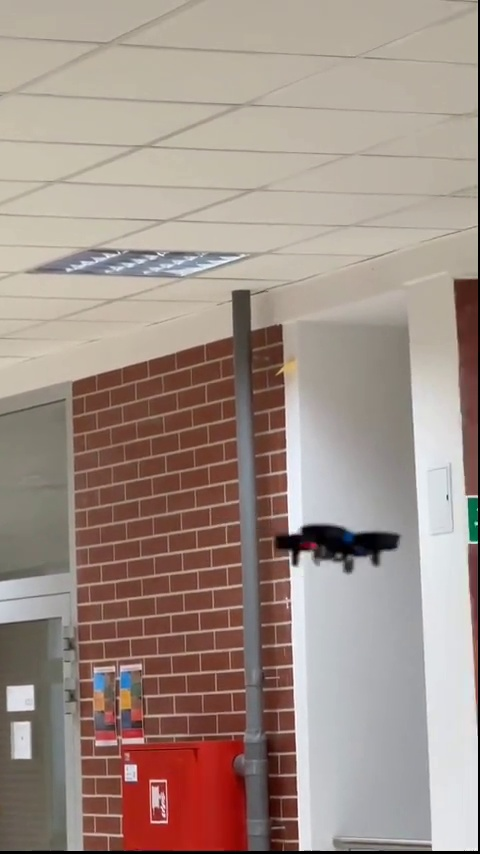drone: (278, 525, 405, 575)
